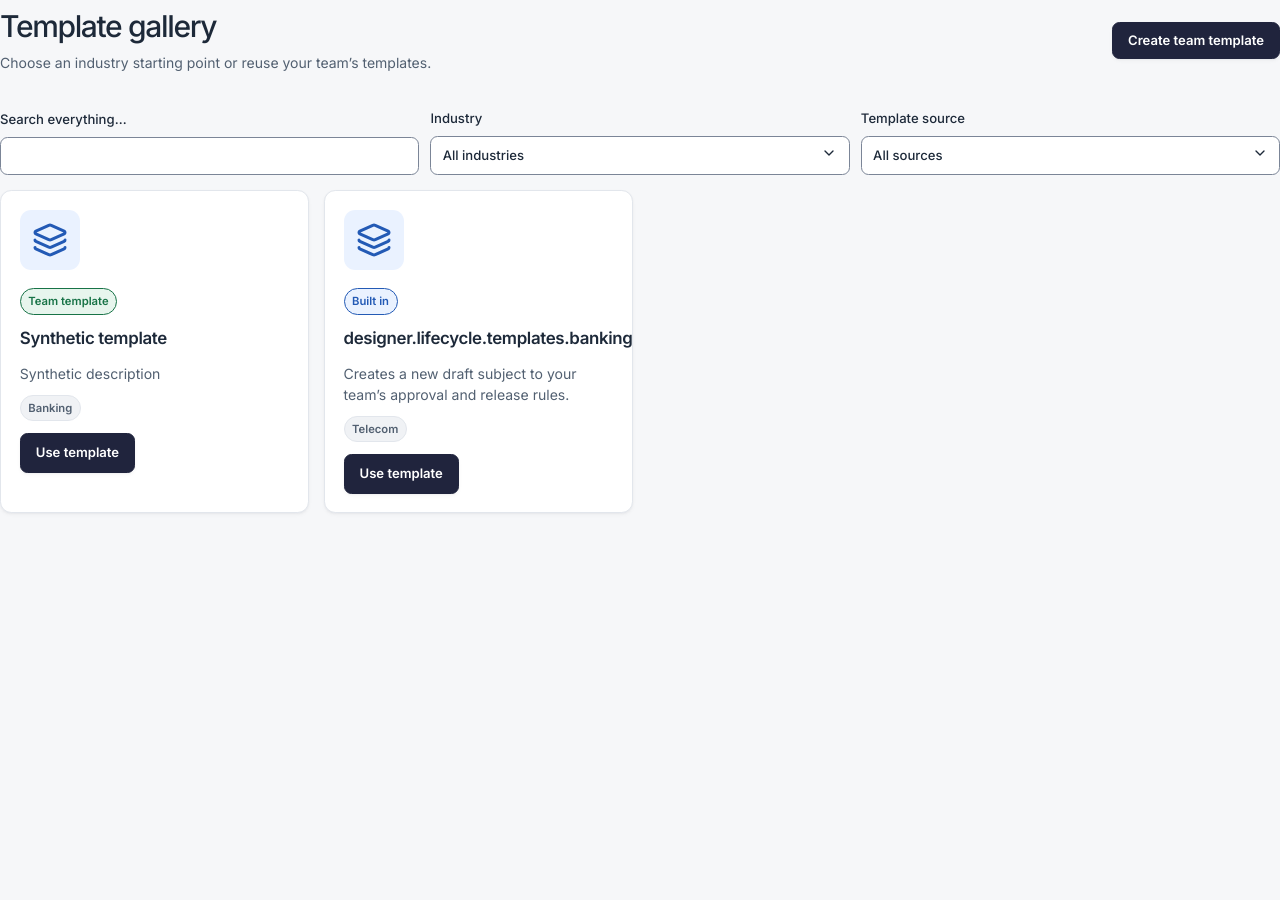
Test: keeps template input after failure and permits closing the dialog
Check: the heading "Synthetic template" is shown, box [20,328,167,348]
Click the button "Use template" below "Synthetic description": click(78, 452) [20,432,135,472]
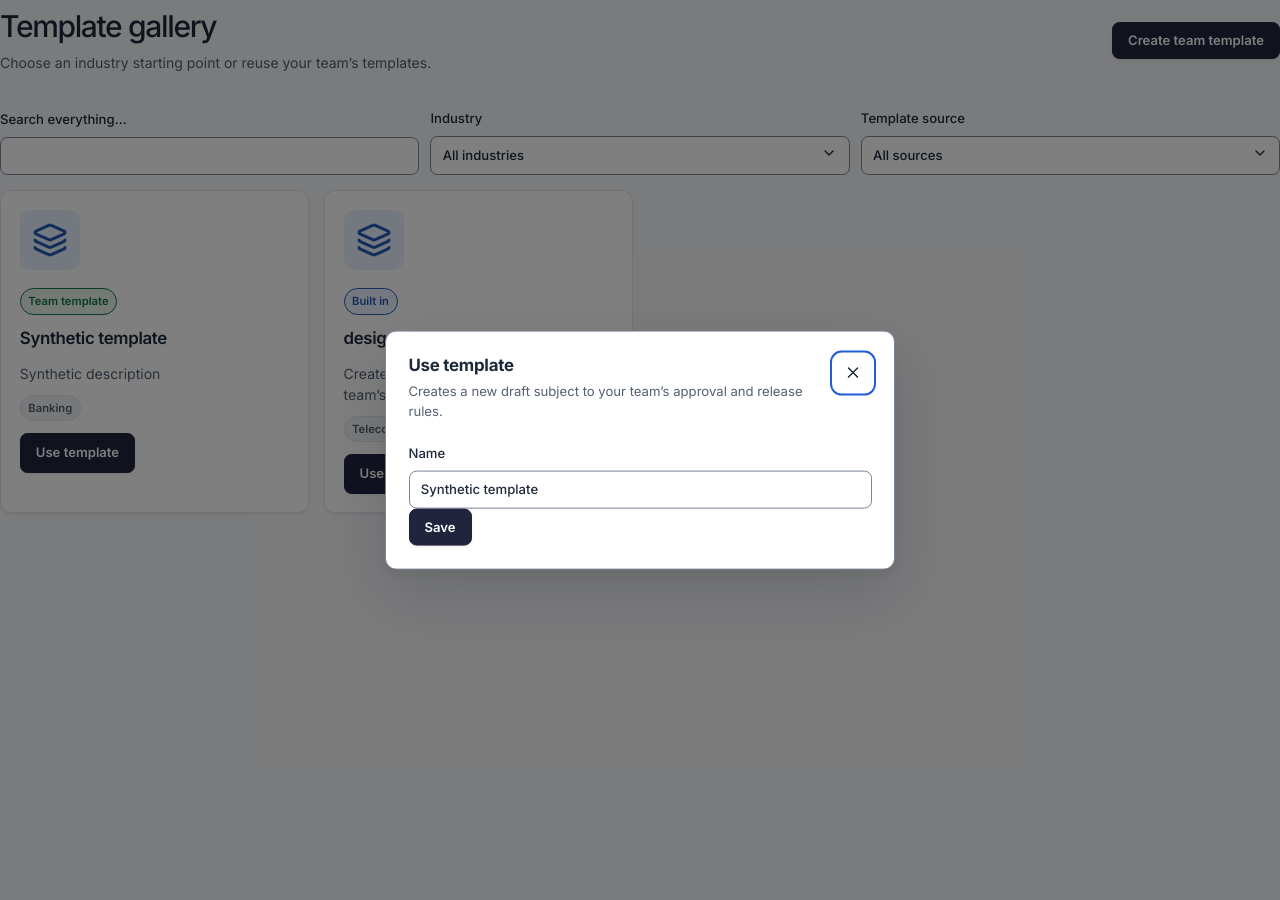
Click the button "Save": click(440, 527) [408,508,472,546]
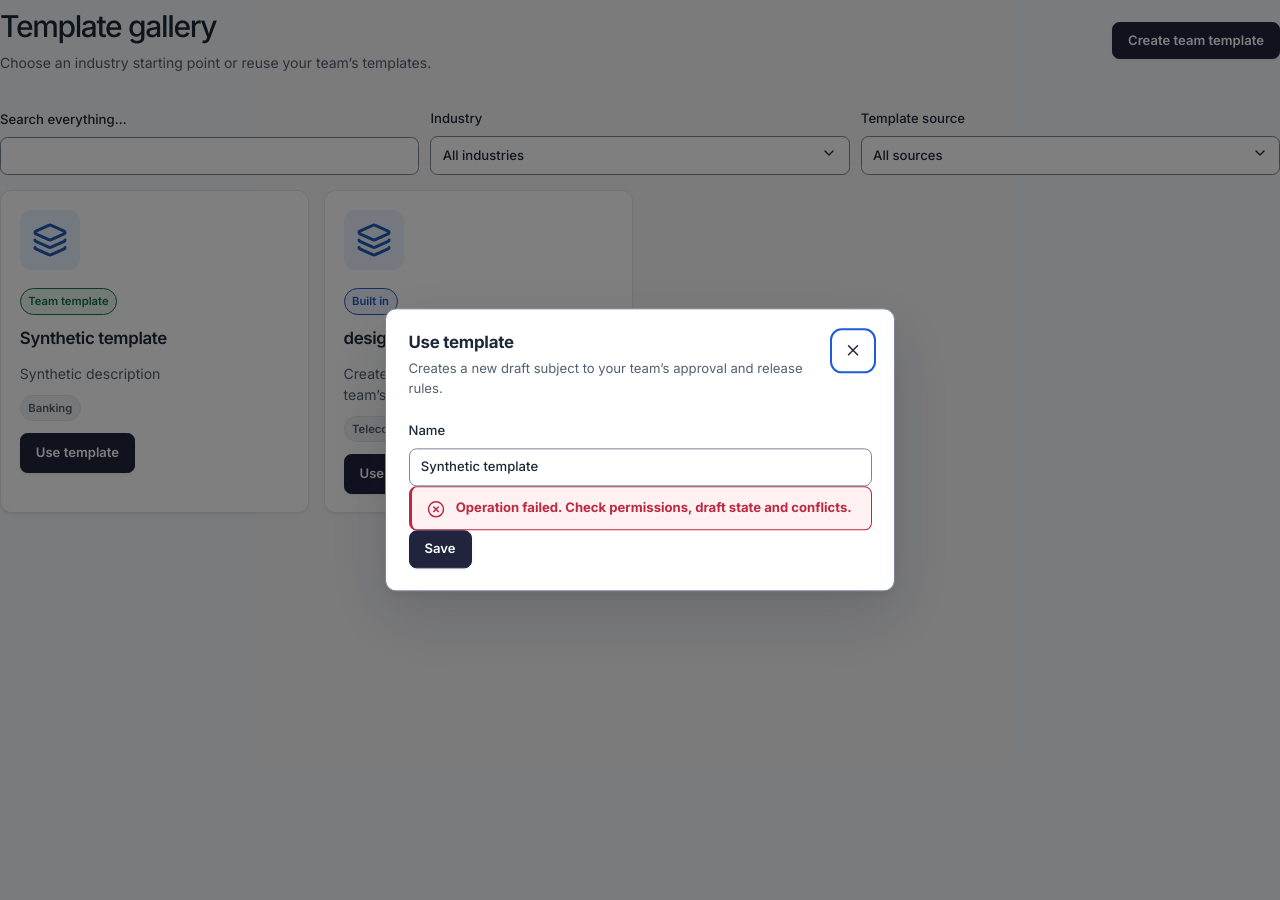
Check: the field labelled "Name" holds "Synthetic template", box [408,449,872,486]
Check: the message "Operation failed. Check permissions, draft state and conflicts." is shown, box [408,486,872,531]
Click the button named "Close": click(853, 351) [834,332,872,369]
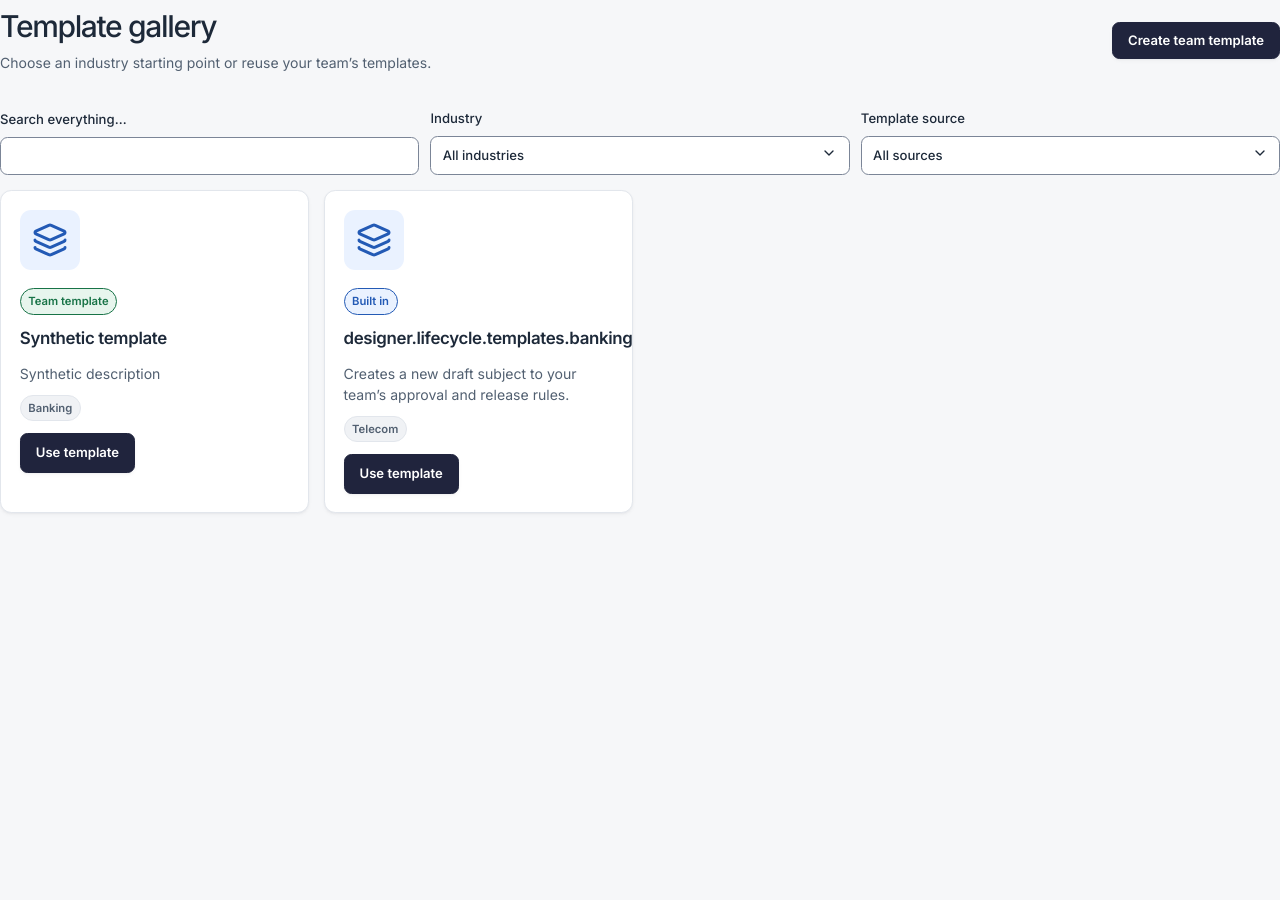
Check: the dialog is gone
